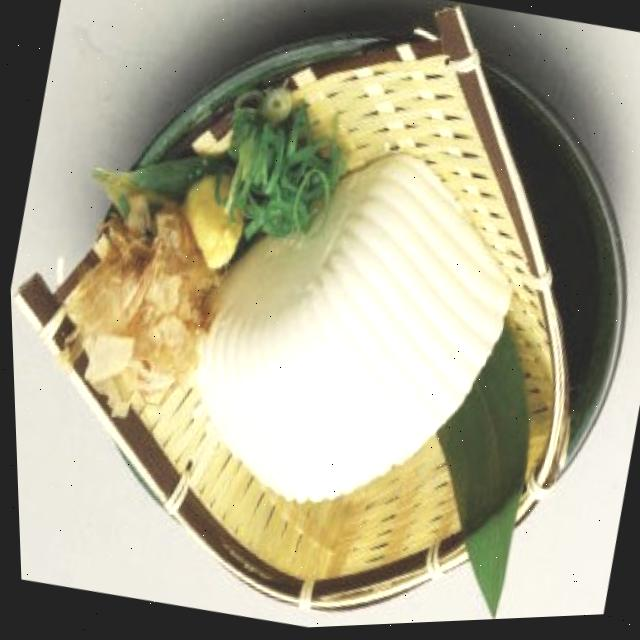豆腐料理: (30, 84, 545, 554)
